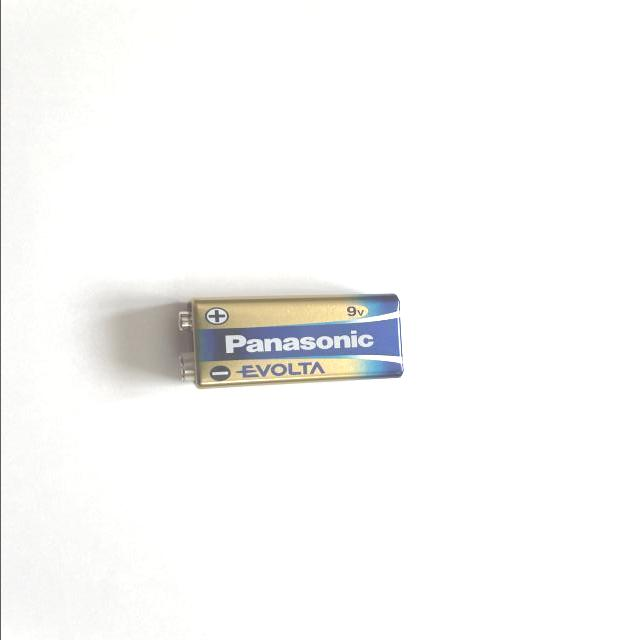9V: (174, 293, 404, 389)
